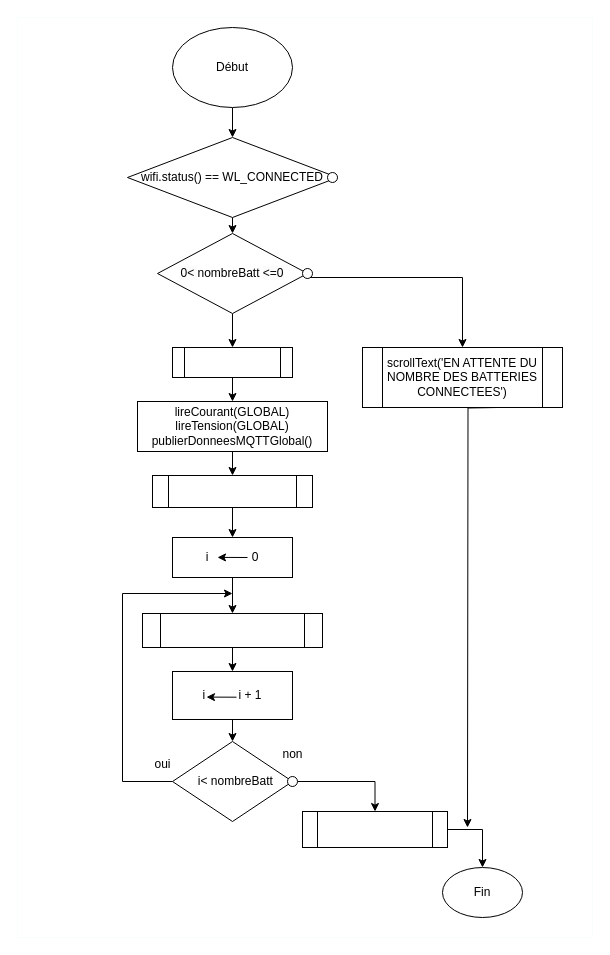
This 610x955 diagram has some shape labels left out. Each missing label, with the centre of its shape:
"afficherSurLCD()" belongs at [375,829].
"mesureBatteries()" belongs at [232,491].
"mettreAjourSoc" belongs at [232,362].
"verifierAlerteBatterie(i)" belongs at [232,630].
